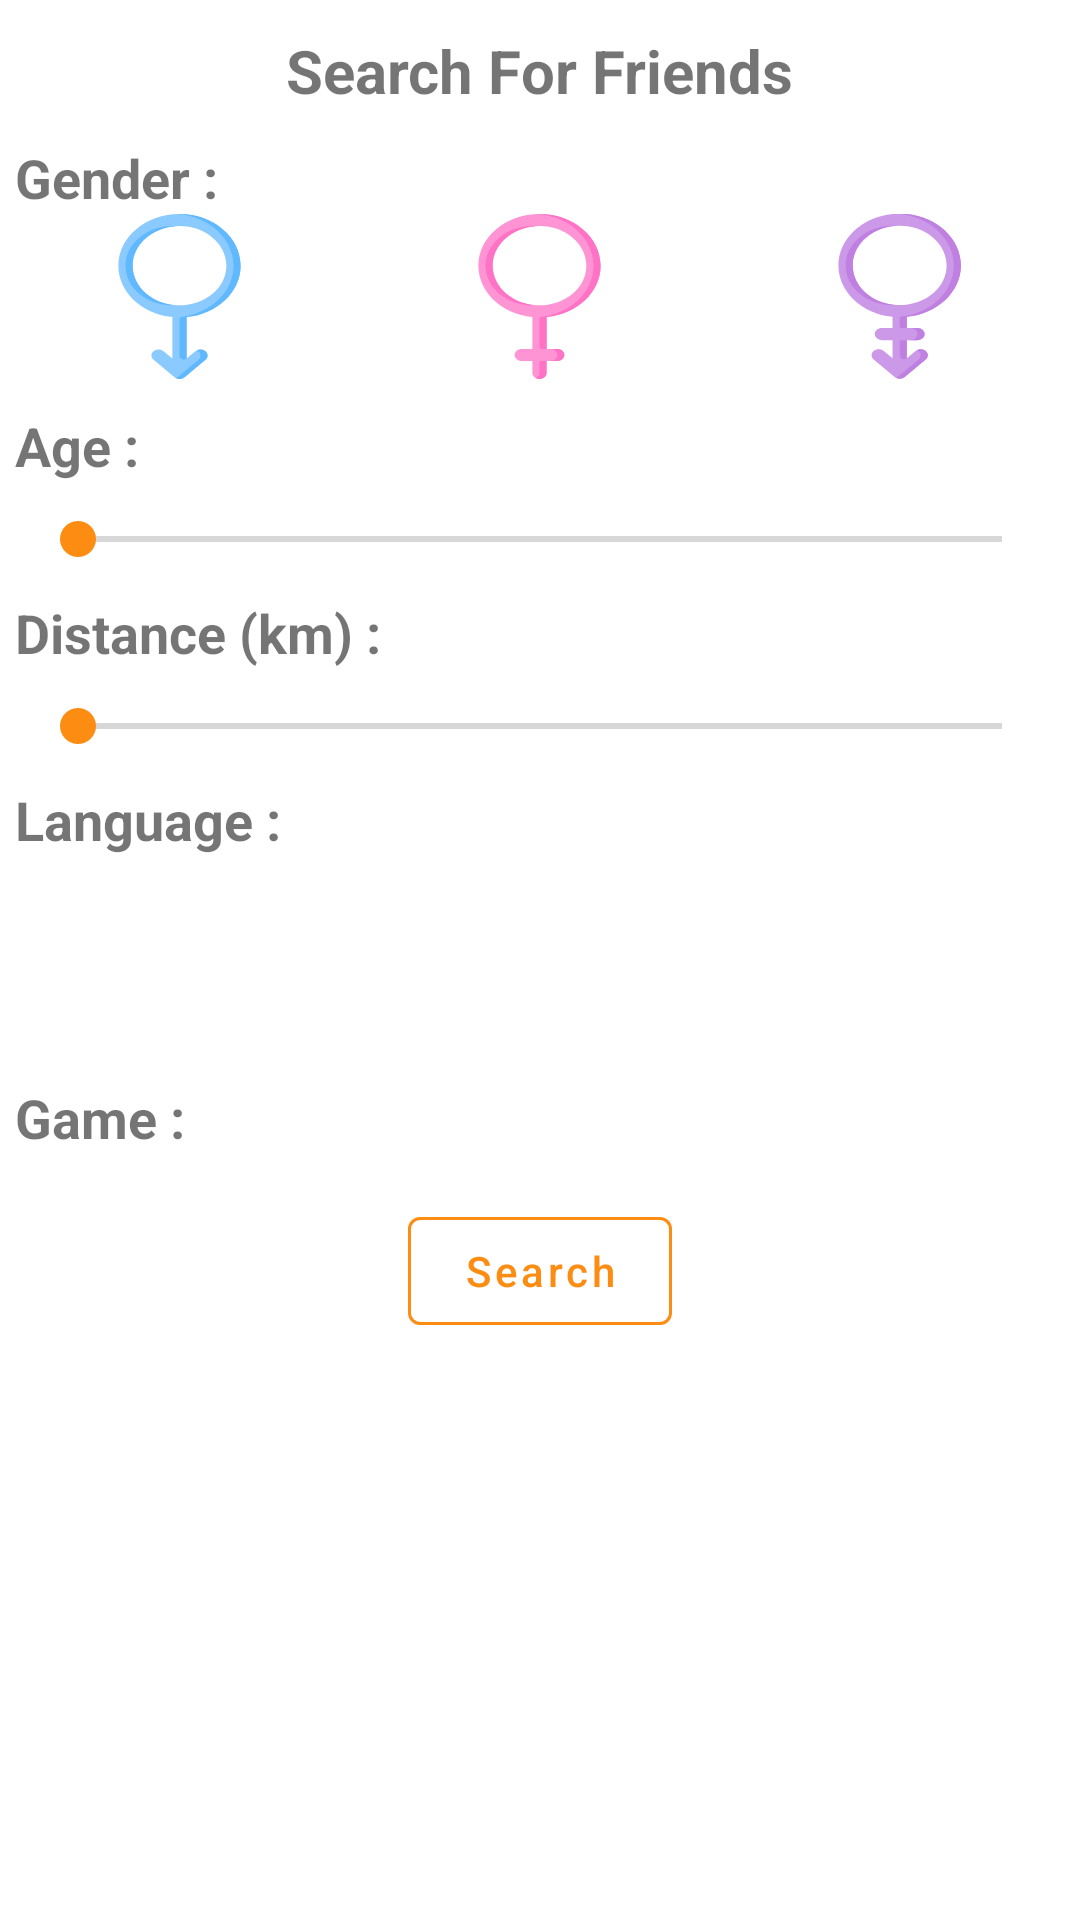

Point at icon controls on the screen. Image size 1080x1920, points as (x=x, y=y).
both genders: (x=899, y=296)
female: (x=539, y=296)
male: (x=179, y=296)
